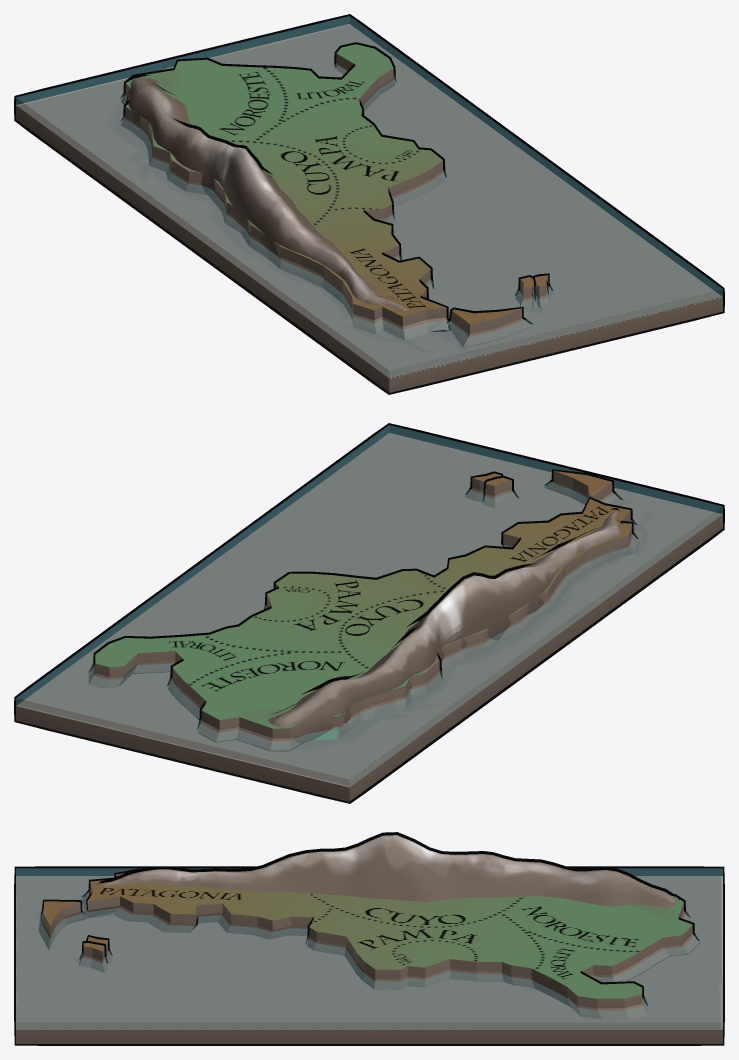
Rendered from Plano version 2.fbx.
3 views of the same model, one above another, from view 1: azimuth 30°, elevation 25°; view 2: azimuth 150°, elevation 25°; view 3: azimuth 270°, elevation 25° (orthographic). The views are drawn at different scales.
Parts seen in each view (by area): view 1: Plane, Plane.001; view 2: Plane, Plane.001; view 3: Plane, Plane.001.
Part boxes in pixels (bbox=[...]): Plane: bbox=[14, 14, 724, 394]; Plane.001: bbox=[122, 74, 407, 310]; Plane: bbox=[14, 423, 724, 803]; Plane.001: bbox=[268, 508, 622, 743]; Plane: bbox=[14, 866, 724, 1045]; Plane.001: bbox=[94, 832, 679, 917].
Bounding box in the file's own units: 857 × 212 × 1652.
Materials: 4 (2 with a texture image).
